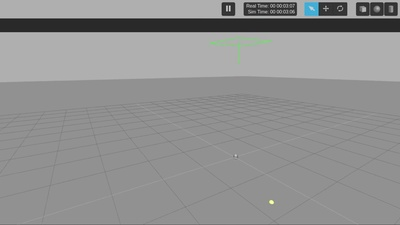mira_robot: (233, 154, 238, 159)
